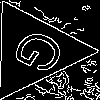G: (9, 25, 78, 83)
